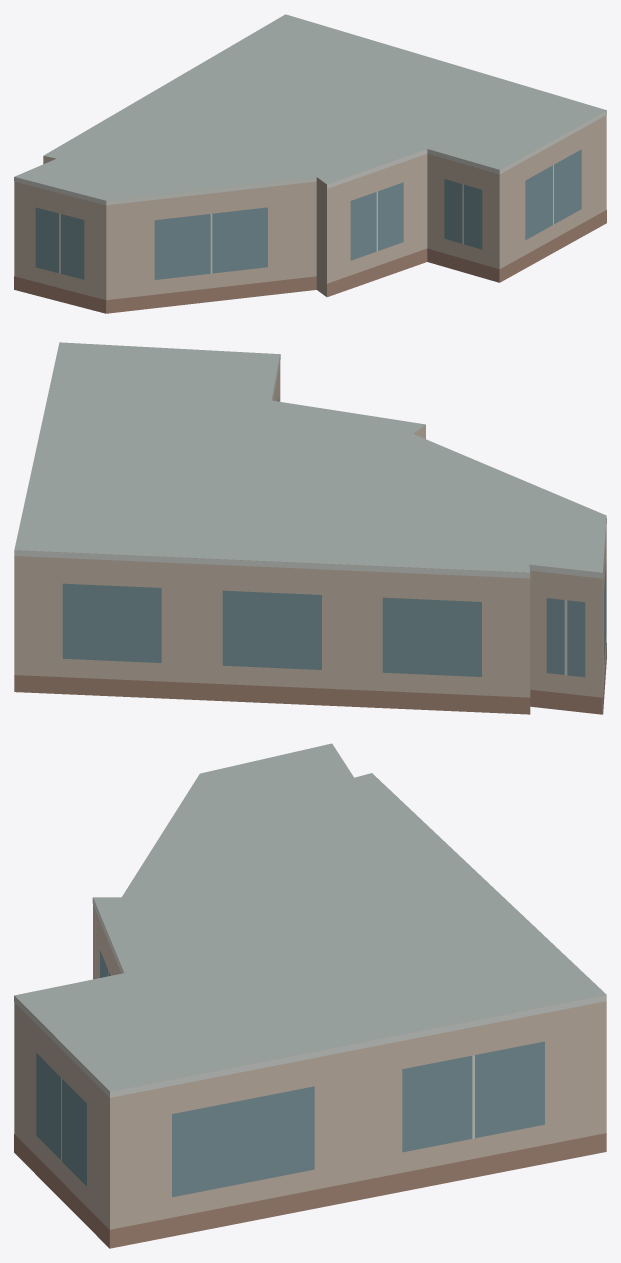
The model's file is survey-upis-32529576.glb.
3 views of the same model, one above another, from view 1: azimuth 30°, elevation 25°; view 2: azimuth 150°, elevation 25°; view 3: azimuth 270°, elevation 25° (orthographic). The views are drawn at different scales.
Visible parts, largest first — view 1: survey-upis-32529576.tmp; view 2: survey-upis-32529576.tmp; view 3: survey-upis-32529576.tmp.
Part boxes in pixels (<box>): survey-upis-32529576.tmp: <box>14,14,606,313</box>; survey-upis-32529576.tmp: <box>14,342,606,714</box>; survey-upis-32529576.tmp: <box>14,743,606,1248</box>.
Size of the model in its own units: 14.5 by 3.05 by 10.44.
